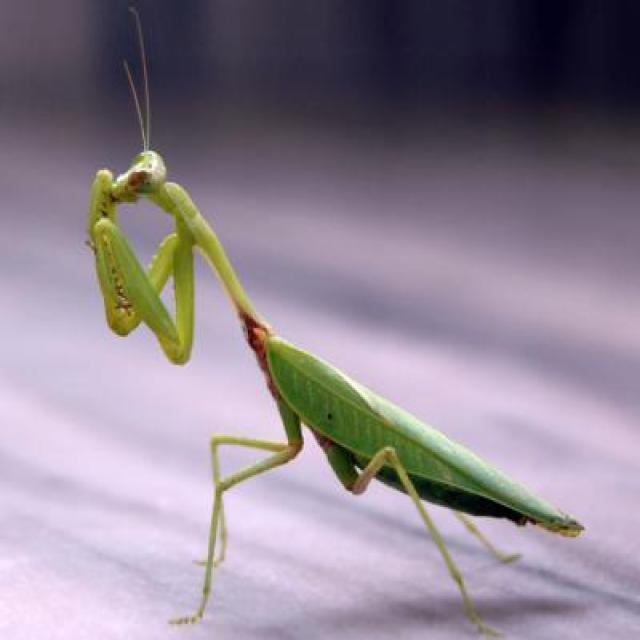antennae: (131, 6, 150, 148), (122, 60, 146, 144)
body: (111, 153, 581, 538)
insect: (83, 5, 586, 640)
legs: (322, 433, 493, 635), (177, 406, 297, 621), (197, 400, 305, 564), (96, 223, 202, 363), (88, 164, 175, 333), (455, 497, 519, 571)
mouthpart: (103, 189, 128, 205)
wings: (266, 337, 576, 534)
